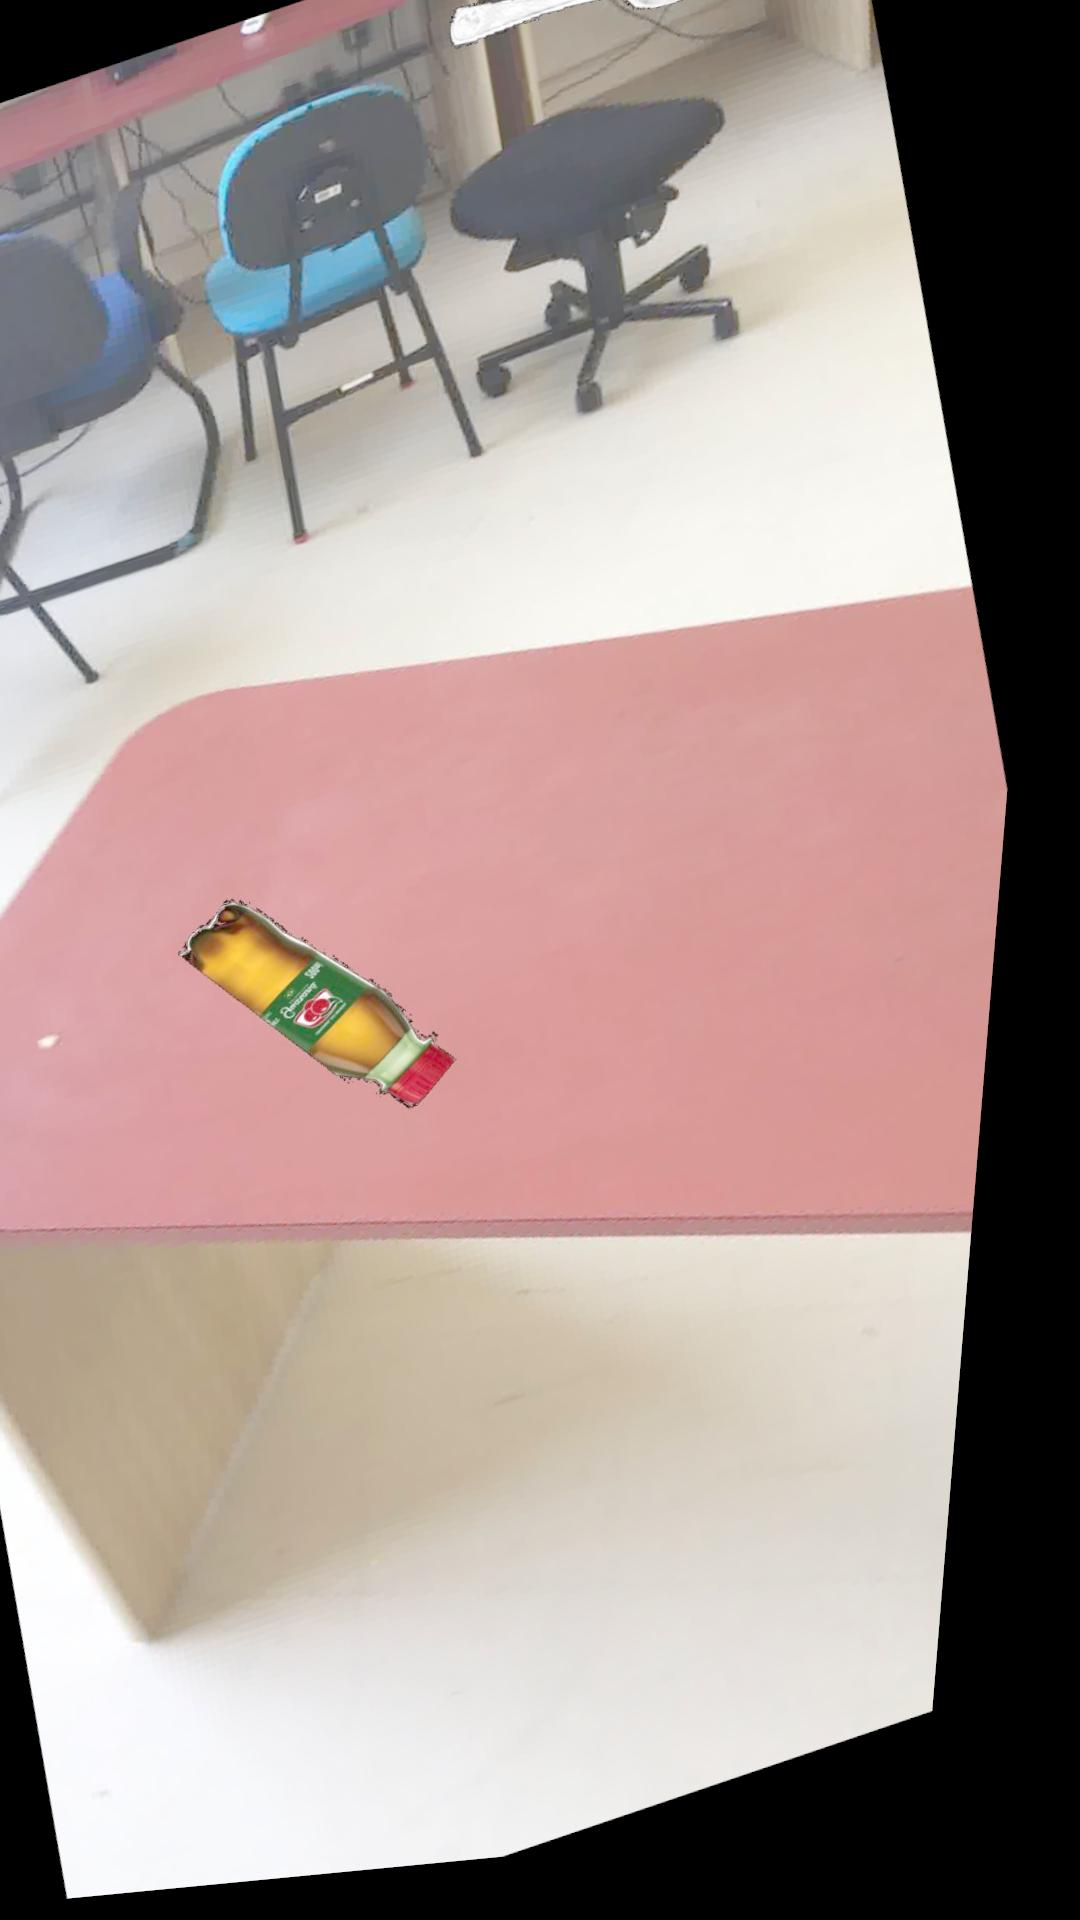guarana: (195, 902, 476, 1116)
spoon: (451, 0, 705, 53)
